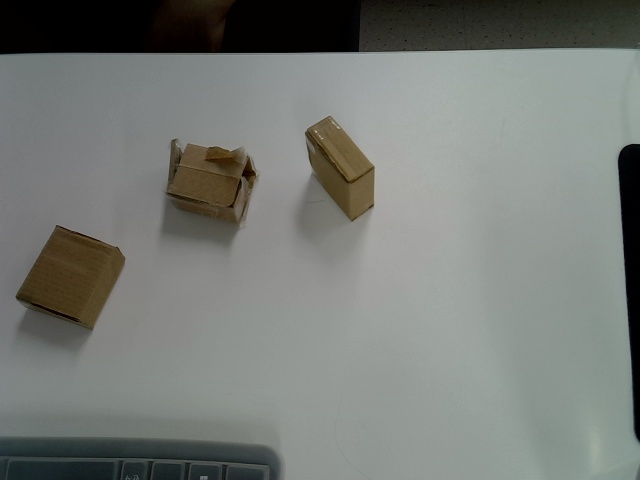defect: (166, 137, 257, 224)
normal: (15, 224, 125, 330), (303, 114, 376, 221)
